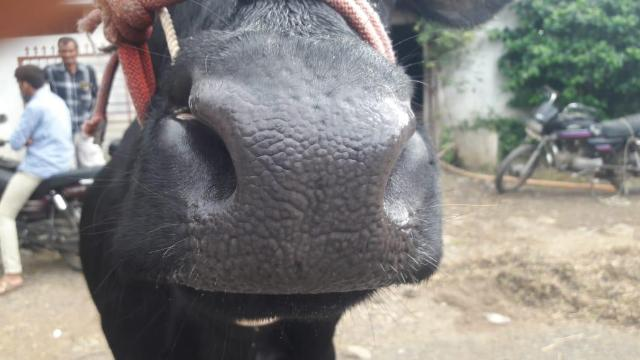Muzzle: (220, 94, 400, 274)
